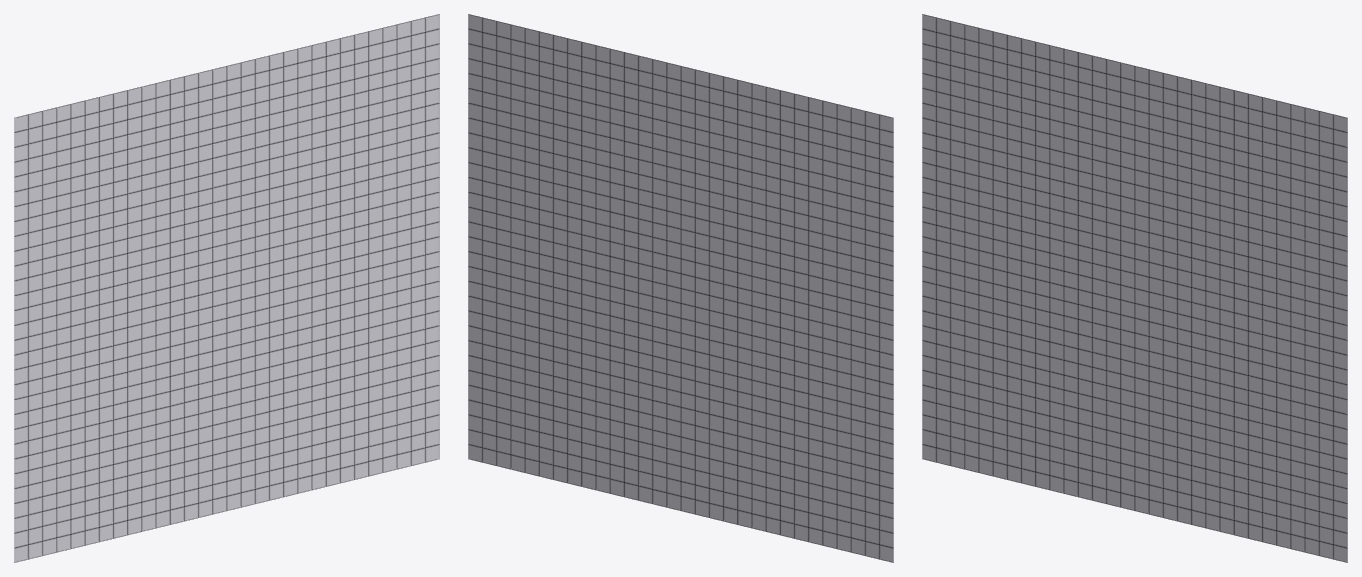
File: tile30x30.obj
3 views of the same model, side by side, from view 1: azimuth 30°, elevation 25°; view 2: azimuth 150°, elevation 25°; view 3: azimuth 330°, elevation 25° (orthographic).
Parts seen in each view (by area): view 1: 平面; view 2: 平面; view 3: 平面.
Part boxes in pixels (x1=…): 平面: x1=14, y1=14, x2=439, y2=562; 平面: x1=468, y1=14, x2=893, y2=562; 平面: x1=922, y1=14, x2=1347, y2=562.
Bounding box in the file's own units: 60 × 60 × 4e-06.
